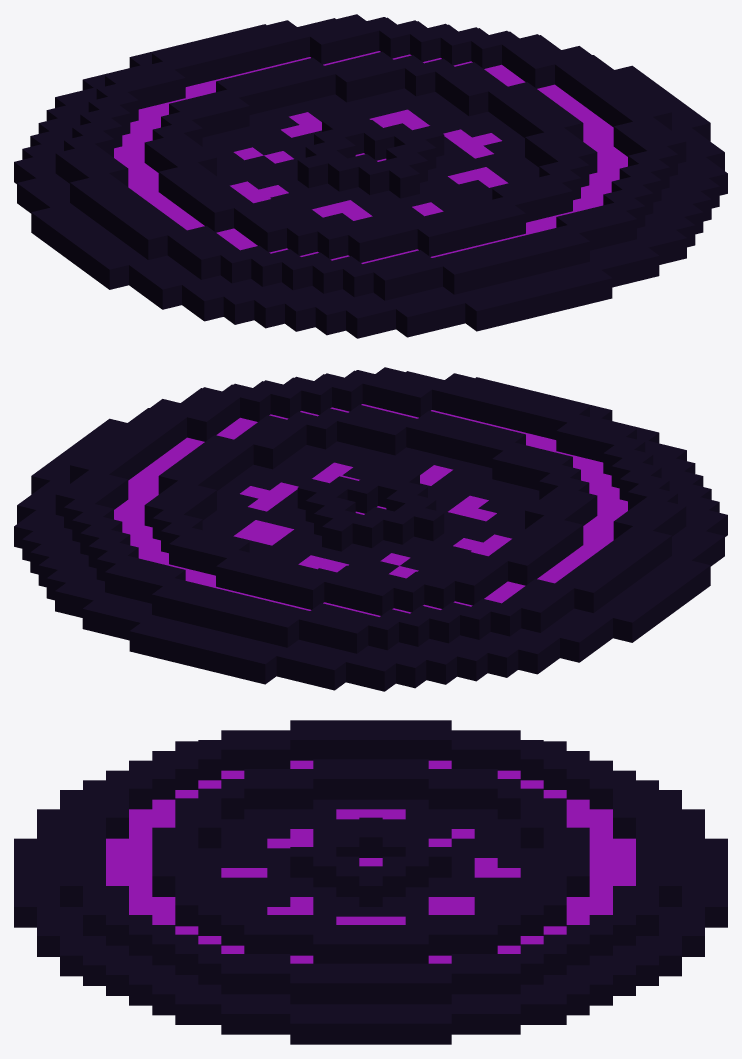
File: Portal.fbx
The picture shows the model from 3 angles, top to bottom: view 1: azimuth 30°, elevation 25°; view 2: azimuth 150°, elevation 25°; view 3: azimuth 270°, elevation 25°; orthographic projection. The views are drawn at different scales.
Visible parts, largest first — view 1: Cube; view 2: Cube; view 3: Cube.
Boxes of the visible parts, bbox=[...] form: Cube: bbox=[14, 14, 727, 338]; Cube: bbox=[14, 367, 727, 691]; Cube: bbox=[14, 720, 727, 1044].
Size of the model in its own units: 775 by 50 by 775.
